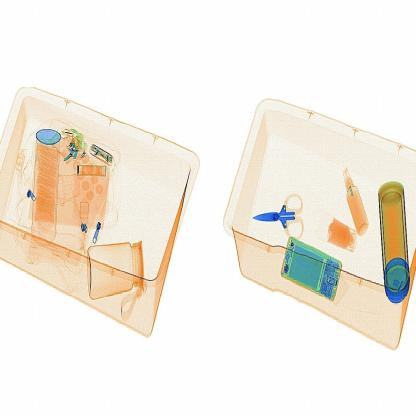gun: (245, 175, 314, 250)
